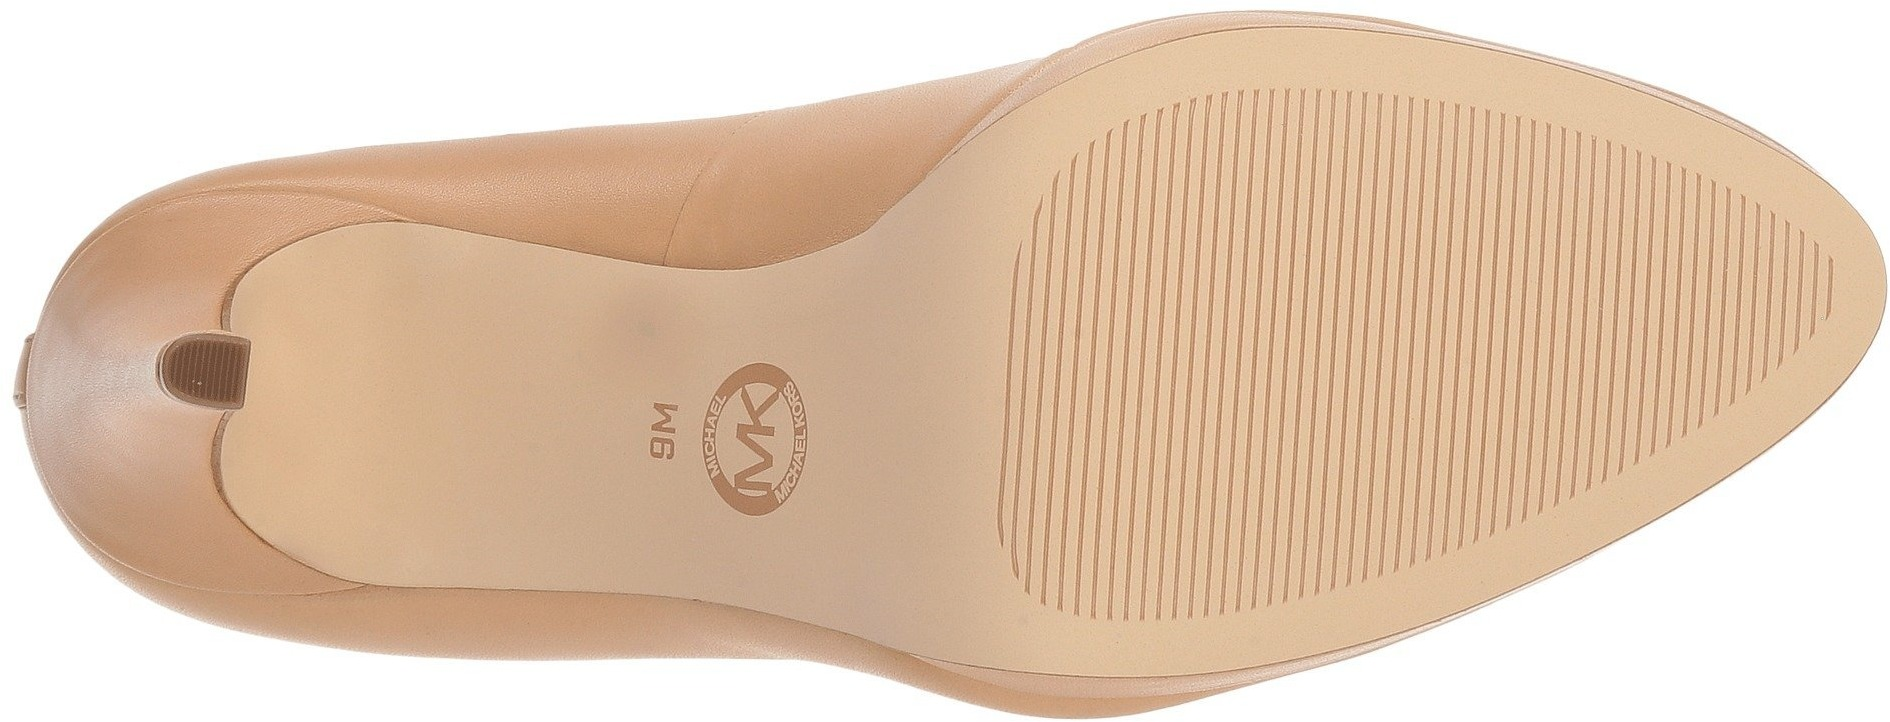other: (1025, 207, 1308, 498), (1315, 108, 1615, 377), (1620, 200, 1791, 382), (1317, 386, 1495, 558), (863, 335, 1010, 477), (183, 341, 236, 399)
